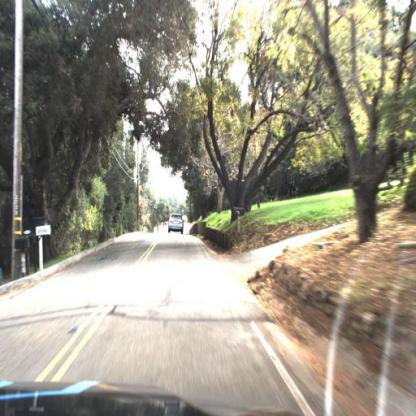car: (166, 212, 186, 242)
